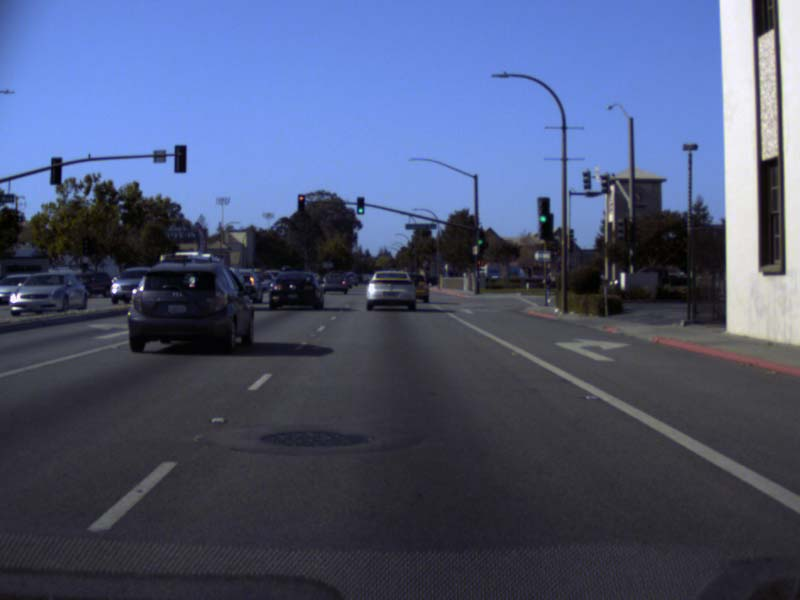Green: (538, 198, 546, 226), (476, 229, 483, 245), (356, 197, 363, 213)
Red: (297, 194, 304, 212)
